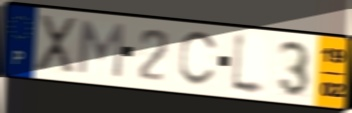2: (137, 28, 171, 83)
3: (277, 39, 313, 98)
C: (177, 30, 221, 90)
L: (228, 29, 268, 100)
M: (74, 18, 127, 81)
X: (33, 13, 79, 78)
